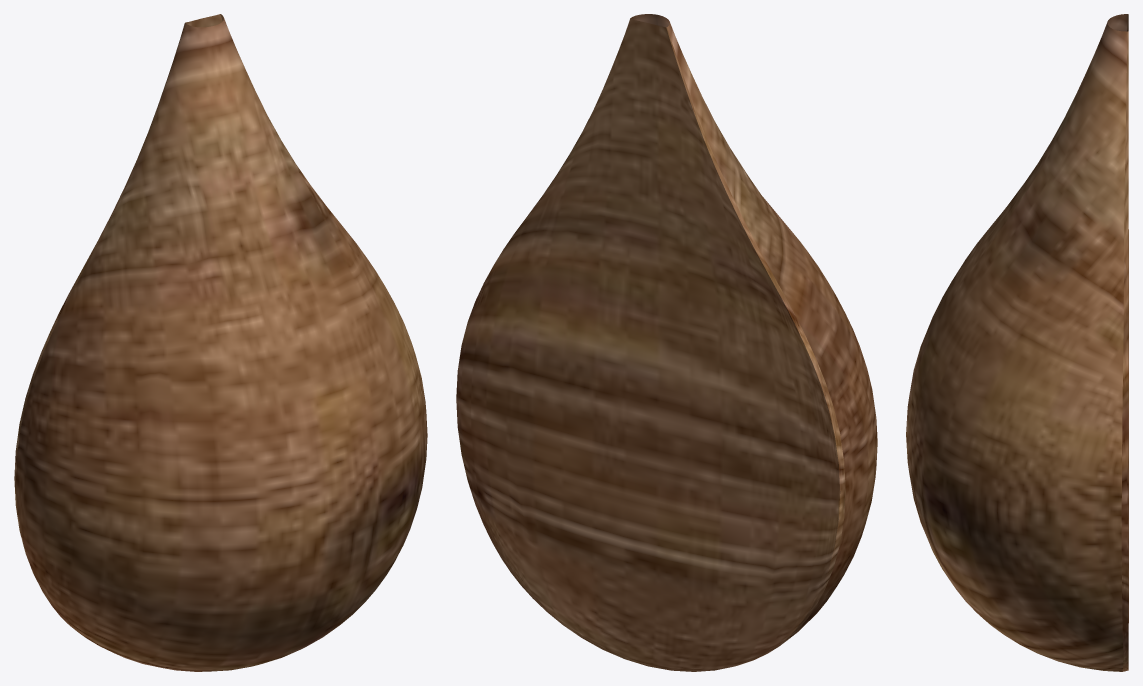
Rendered from bojo_drop33.obj.
3 views of the same model, side by side, from view 1: azimuth 30°, elevation 25°; view 2: azimuth 150°, elevation 25°; view 3: azimuth 270°, elevation 25° (orthographic). The views are drawn at different scales.
Visible parts, largest first — view 1: mesh01; view 2: mesh01; view 3: mesh01.
Part boxes in pixels (box(x1,y1,x2,y2)): mesh01: box(14, 14, 427, 671); mesh01: box(456, 14, 877, 671); mesh01: box(906, 14, 1128, 671).
Bounding box in the file's own units: 0.9412 × 1.49 × 0.4803.
